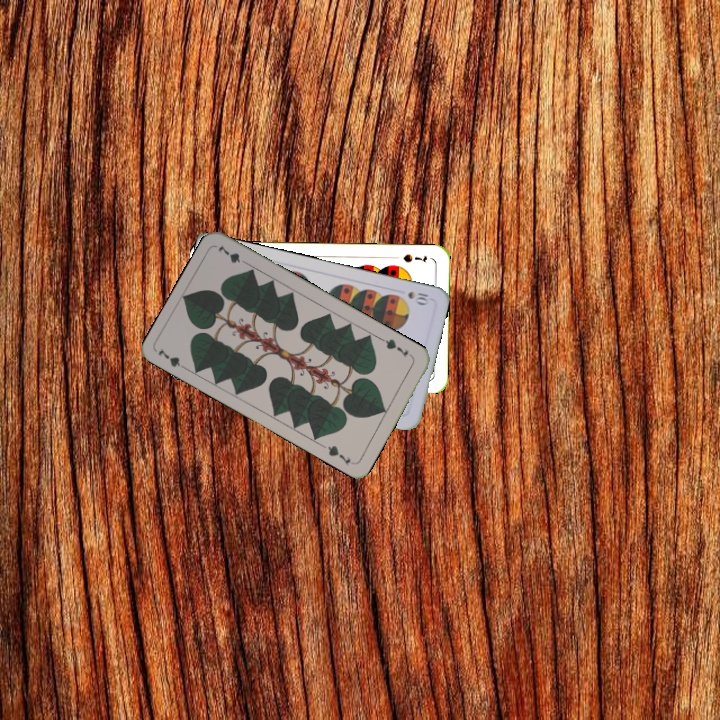G7: (154, 344, 191, 373), (378, 335, 416, 360)
S10: (404, 287, 431, 307)
S7: (399, 250, 430, 265)
